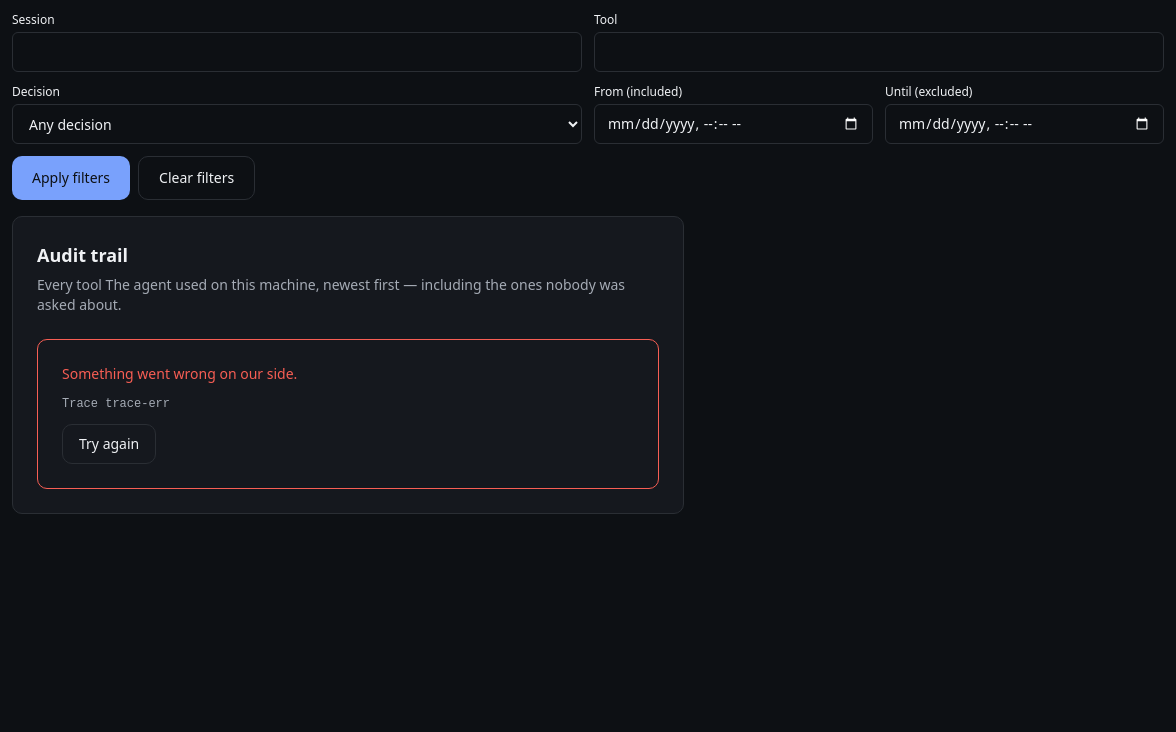
Test: the audit trail screen › shows the failure, translated, with a way to try again — S-32
Expected: the text "Something went wrong on our side." is shown, [62,364,297,384]
Click the button "Try again" at (109, 444), box [62,424,156,464]
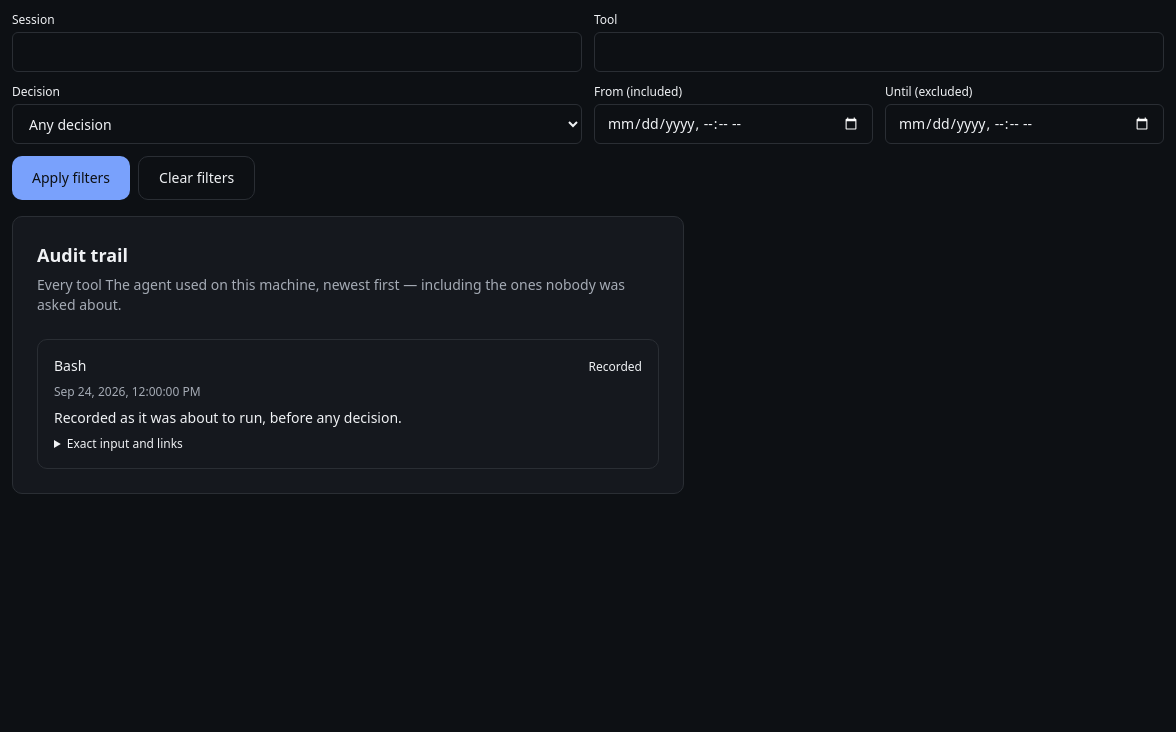
Now the text "Recorded as it was about to run, before any decision." is shown, box [54,408,402,427]
